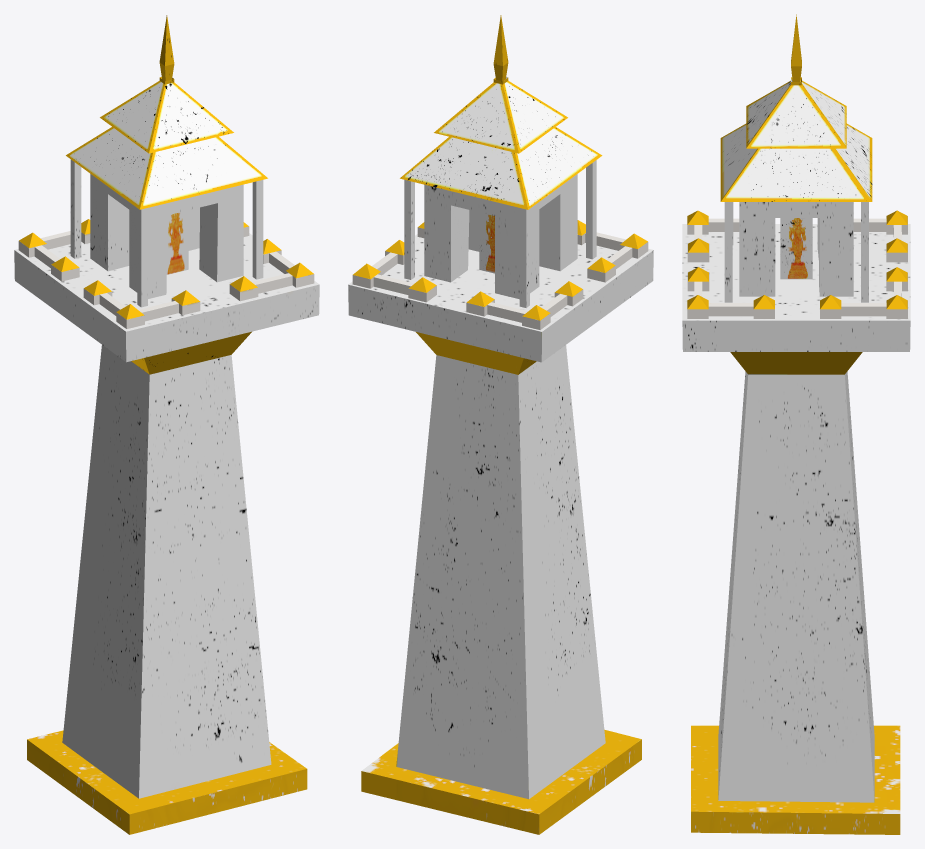
Rendered from shrine.fbx.
The picture shows the model from 3 angles, left to right: view 1: azimuth 30°, elevation 25°; view 2: azimuth 150°, elevation 25°; view 3: azimuth 270°, elevation 25°; orthographic projection. The views are drawn at different scales.
Visible parts, largest first — view 1: Cube, Cube.001; view 2: Cube, Cube.001; view 3: Cube, Cube.001.
Boxes of the visible parts, x1,y1,x2,y2 form: Cube: (14, 15, 319, 834); Cube.001: (18, 219, 314, 328); Cube: (348, 15, 653, 834); Cube.001: (352, 220, 648, 329); Cube: (682, 14, 910, 834); Cube.001: (687, 210, 907, 318).
Bounding box in the file's own units: 40.4 × 152 × 40.4.
2 materials, 2 textured.
